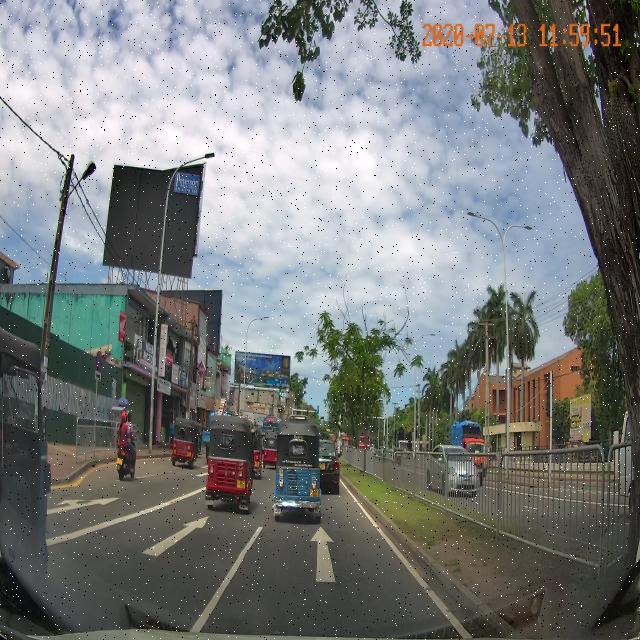forward: (224, 524, 430, 587)
